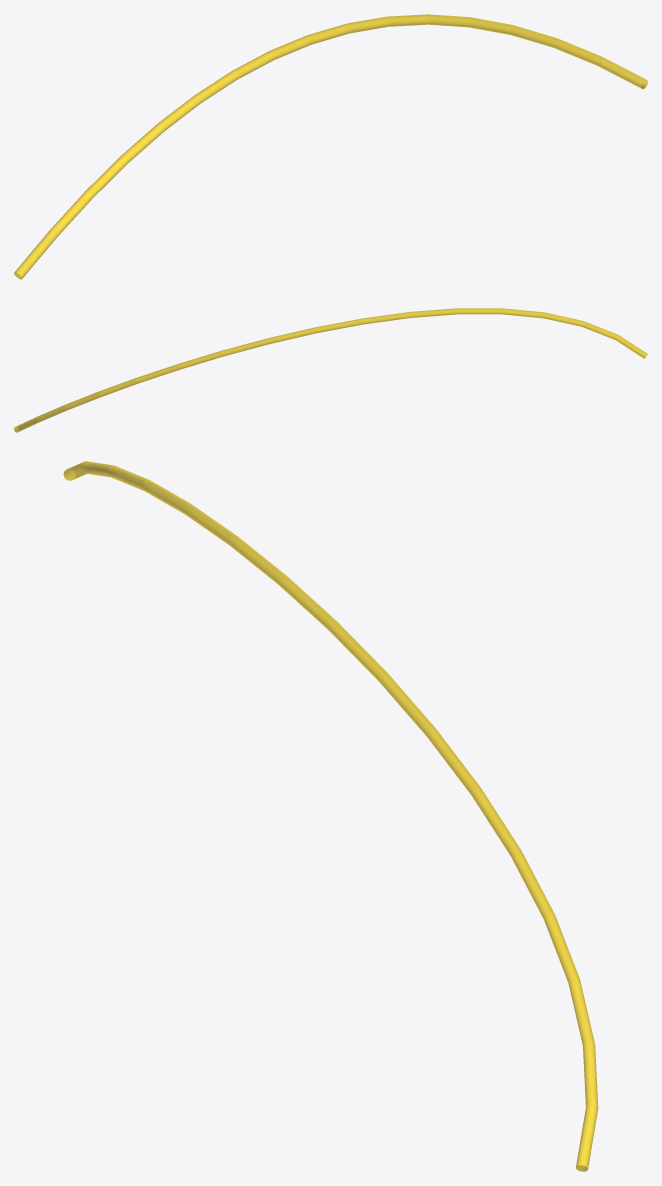
Rendered from Event_419990632_track_50.fbx.
The picture shows the model from 3 angles, top to bottom: view 1: azimuth 30°, elevation 25°; view 2: azimuth 150°, elevation 25°; view 3: azimuth 270°, elevation 25°; orthographic projection. The views are drawn at different scales.
Visible parts, largest first — view 1: Model; view 2: Model; view 3: Model.
Part boxes in pixels (<box>): Model: <box>14,14,647,279</box>; Model: <box>14,308,647,432</box>; Model: <box>63,461,598,1171</box>.
Size of the model in its own units: 3.77 by 1.04 by 1.73.
